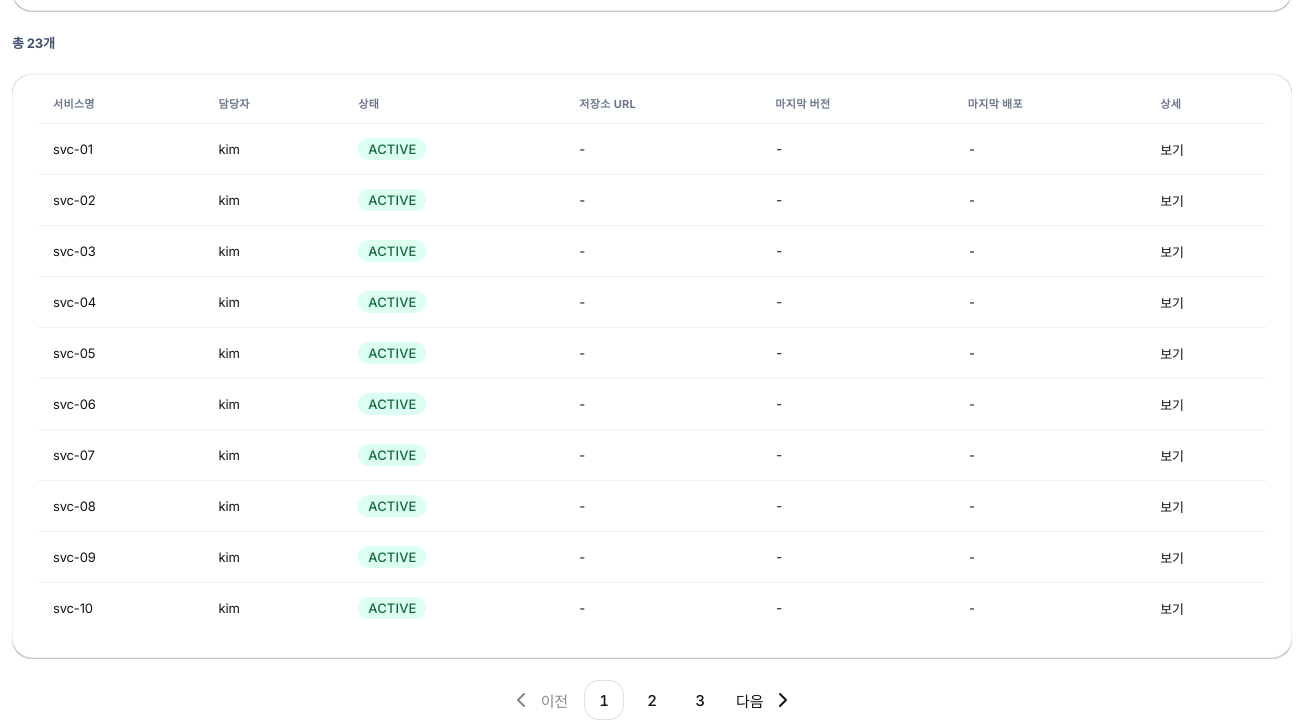
Scenario: ServiceList client pagination + reset › resets page to the first when 초기화 is clicked
(page scrolled)
Click the link "다음".
click(766, 700)  # box [736, 688, 795, 712]
(page scrolled)
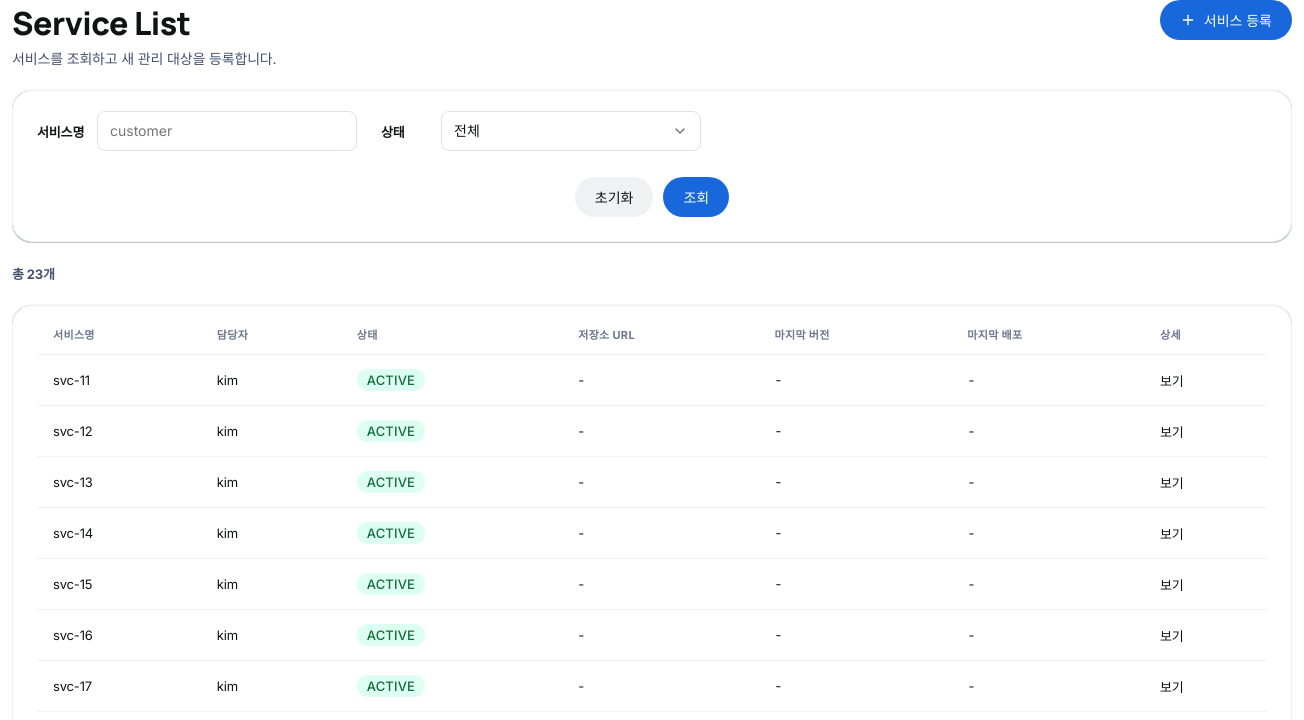
Click the button "초기화".
click(614, 197)  # box [575, 177, 653, 217]
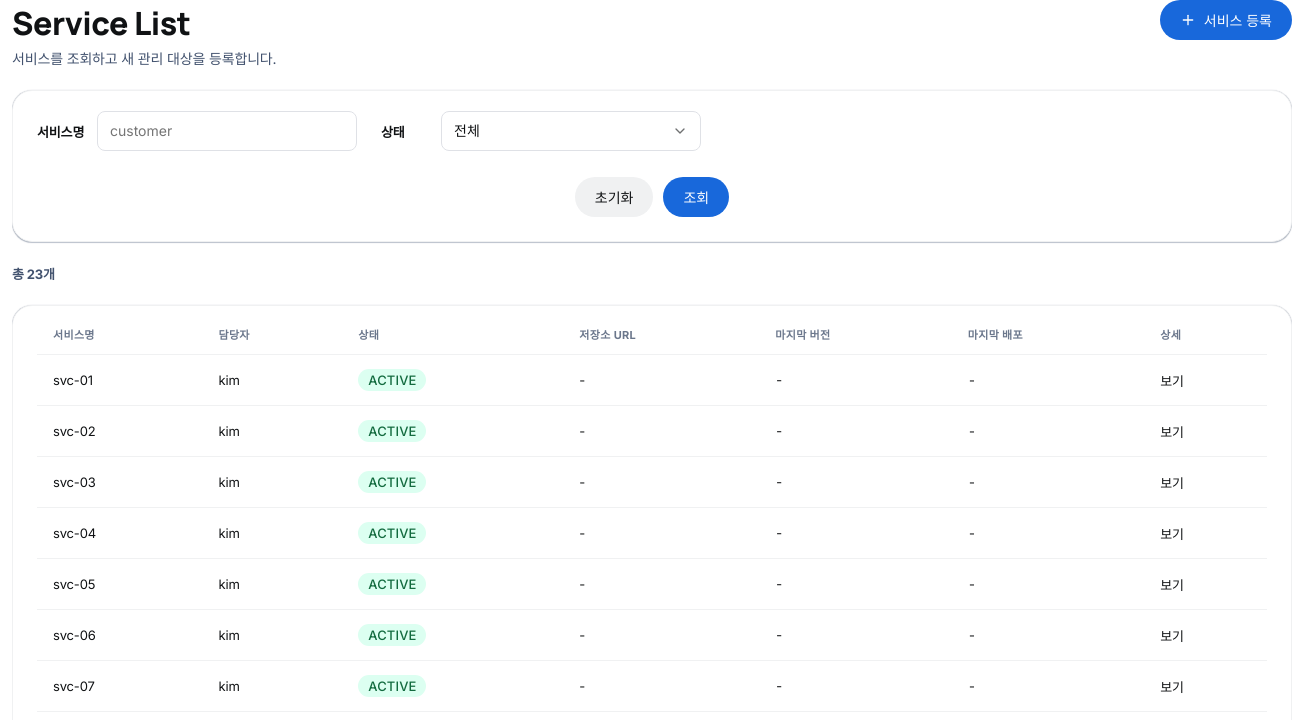
Expected: the link "svc-01" is shown, [53, 372, 93, 388]
